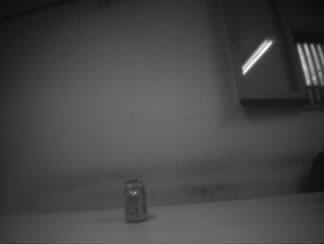Tin can: (122, 175, 149, 223)
